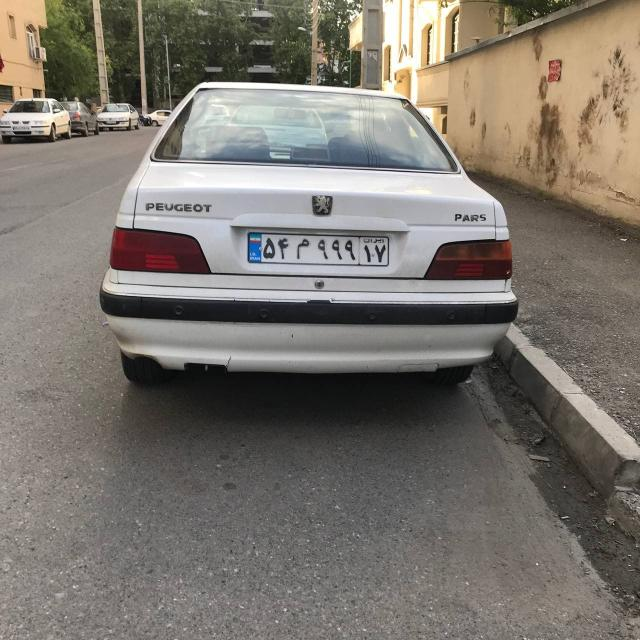Plates: (247, 233, 389, 266)
